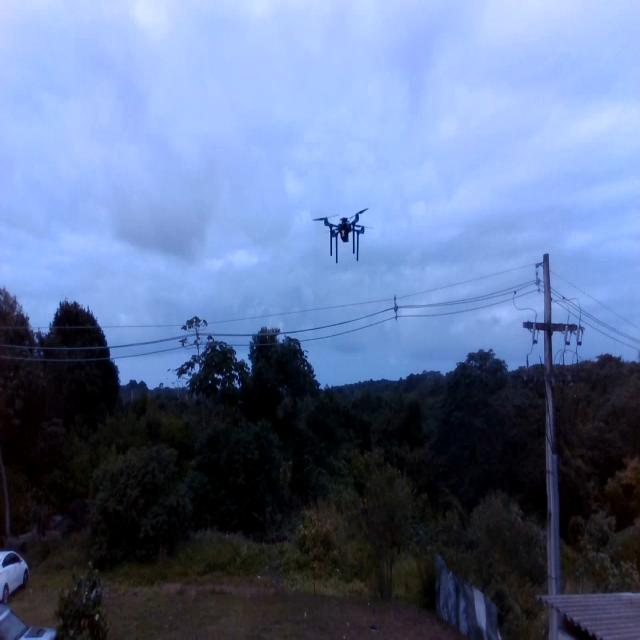-uav-: (310, 197, 373, 273)
